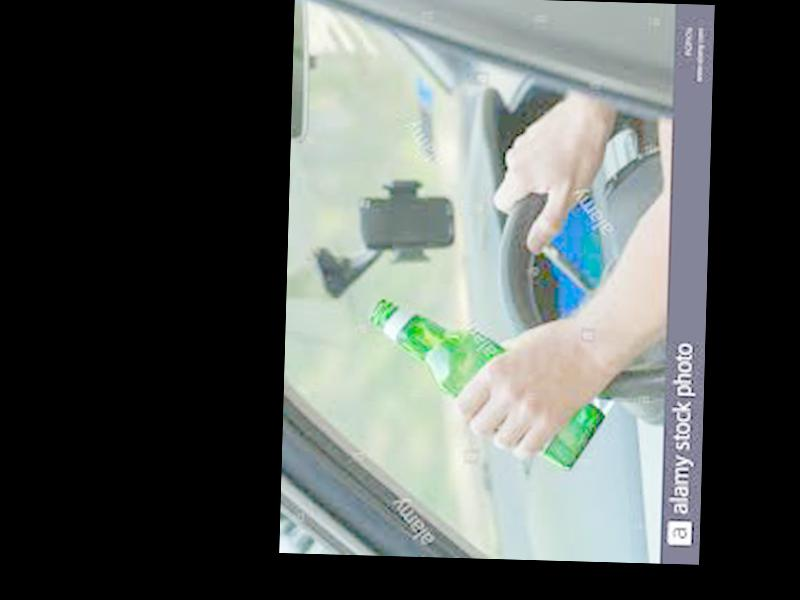Beer: (369, 300, 610, 465)
